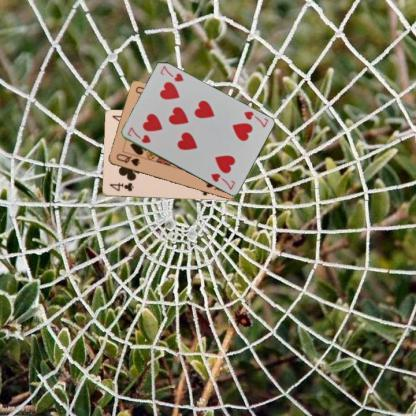4c: (107, 180, 135, 192)
7h: (124, 124, 152, 145), (242, 108, 270, 128)
Qs: (114, 152, 141, 168)
